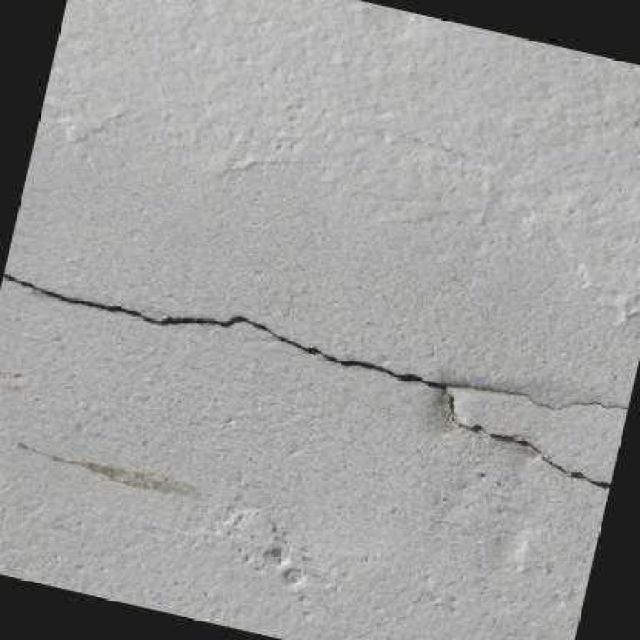D00: (0, 267, 629, 494)
